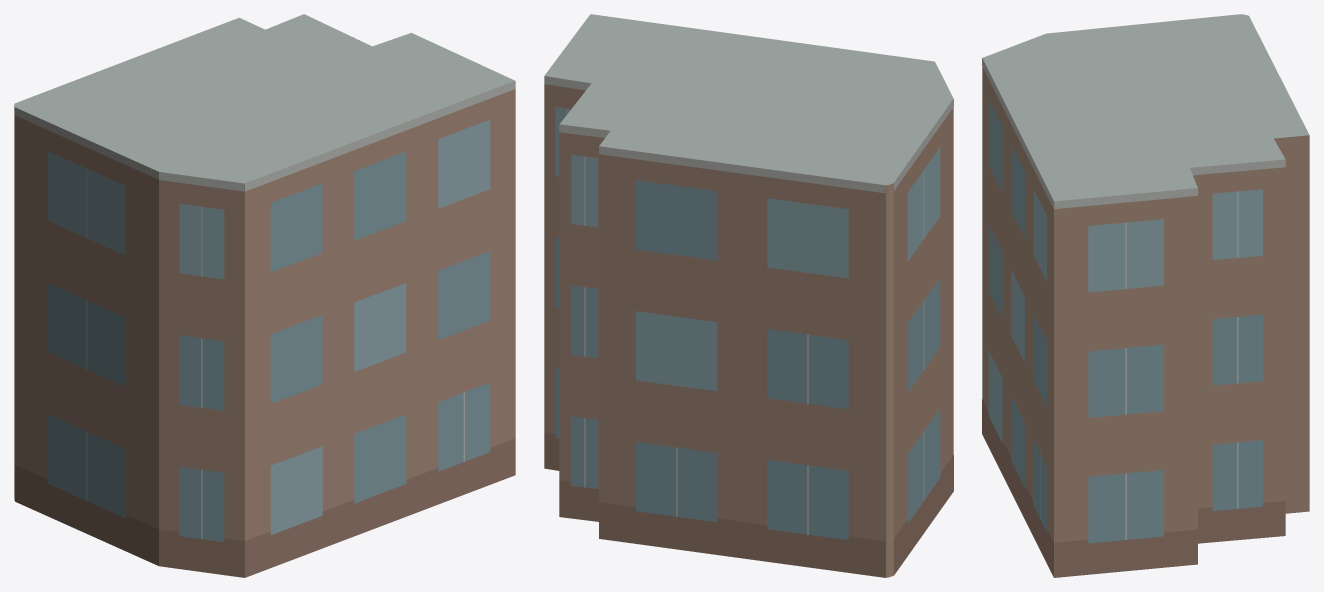
File: survey-upis-32465821.glb
The picture shows the model from 3 angles, left to right: view 1: azimuth 30°, elevation 25°; view 2: azimuth 150°, elevation 25°; view 3: azimuth 270°, elevation 25°; orthographic projection. The views are drawn at different scales.
Visible parts, largest first — view 1: survey-upis-32465821.tmp; view 2: survey-upis-32465821.tmp; view 3: survey-upis-32465821.tmp.
Part boxes in pixels (x1,y1,x2,y2): survey-upis-32465821.tmp: (14,14,515,577); survey-upis-32465821.tmp: (544,14,953,577); survey-upis-32465821.tmp: (982,14,1309,577).
Bounding box in the file's own units: 12.73 × 11.9 × 9.39.
